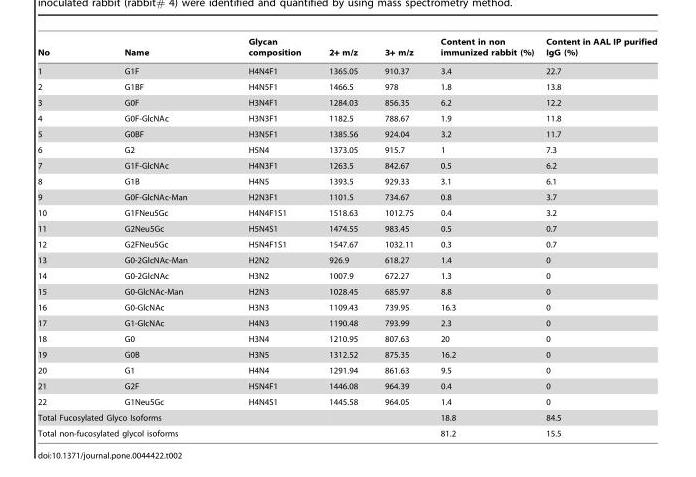table: (37, 37, 656, 437)
table column: (86, 37, 217, 437), (539, 37, 656, 437), (426, 37, 539, 437), (217, 37, 314, 437), (314, 37, 370, 437), (370, 37, 426, 437), (37, 37, 86, 437)
table column header: (37, 37, 656, 61)
table row: (37, 37, 656, 61), (37, 61, 656, 78), (37, 78, 656, 94), (37, 94, 656, 110), (37, 110, 656, 126), (37, 141, 656, 157), (37, 157, 656, 173), (37, 173, 656, 189), (37, 204, 656, 220), (37, 220, 656, 236), (37, 236, 656, 252), (37, 267, 656, 283), (37, 283, 656, 299), (37, 299, 656, 315), (37, 330, 656, 346), (37, 346, 656, 362), (37, 362, 656, 378), (37, 393, 656, 409), (37, 409, 656, 425), (37, 126, 656, 141), (37, 189, 656, 204), (37, 252, 656, 267), (37, 315, 656, 330), (37, 378, 656, 393), (37, 425, 656, 437)
table spanning cell: (37, 409, 314, 425), (37, 425, 370, 437)
